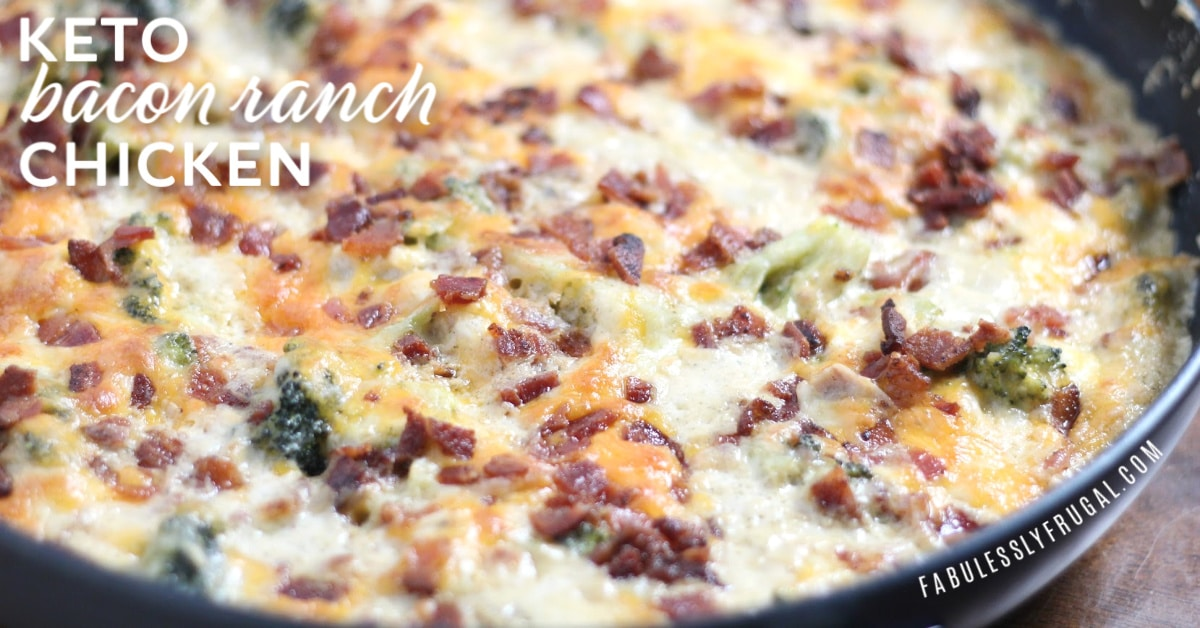bacon: (544, 140, 774, 321), (843, 289, 1018, 401)
